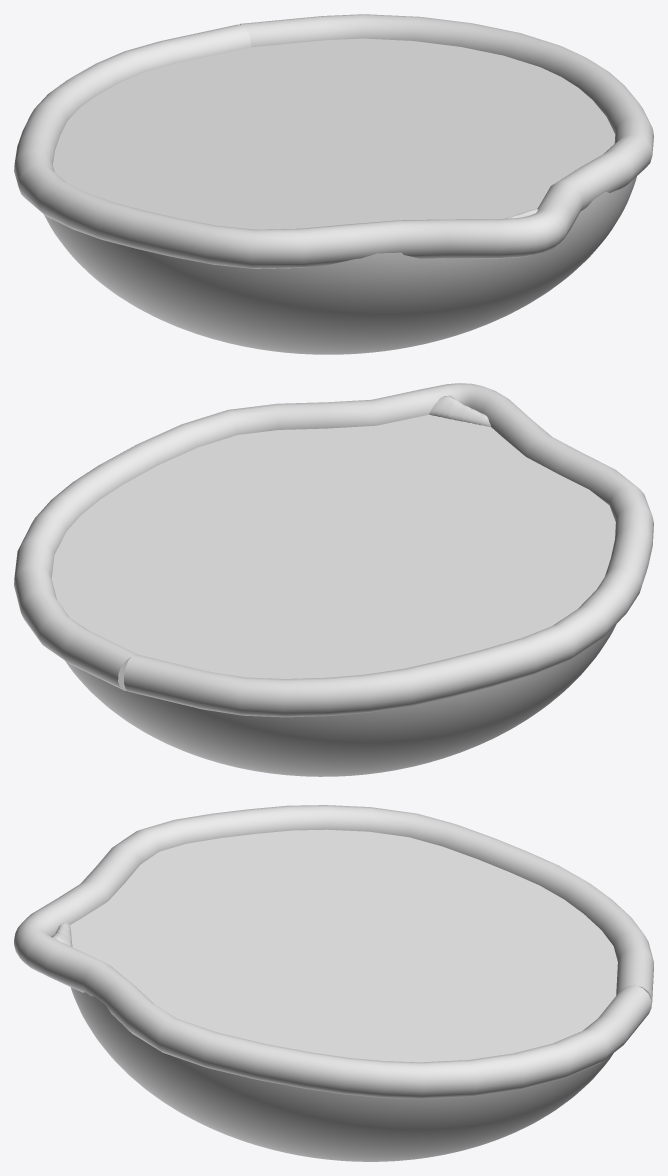
The model's file is capsula.glb.
3 views of the same model, one above another, from view 1: azimuth 30°, elevation 25°; view 2: azimuth 150°, elevation 25°; view 3: azimuth 270°, elevation 25° (orthographic). The views are drawn at different scales.
Parts seen in each view (by area): view 1: mesh_id188, mesh_id213; view 2: mesh_id188, mesh_id213, mesh_id219; view 3: mesh_id188, mesh_id213.
Boxes of the visible parts, left/top/right/bottom form: mesh_id188: left=44, top=38, right=636, bottom=354; mesh_id213: left=14, top=14, right=653, bottom=268; mesh_id188: left=51, top=414, right=616, bottom=776; mesh_id213: left=14, top=383, right=653, bottom=717; mesh_id219: left=429, top=395, right=490, bottom=426; mesh_id188: left=70, top=829, right=617, bottom=1161; mesh_id213: left=14, top=805, right=653, bottom=1099.
Size of the model in its own units: 0.1648 by 0.0616 by 0.172.
3 materials, 3 textured.
